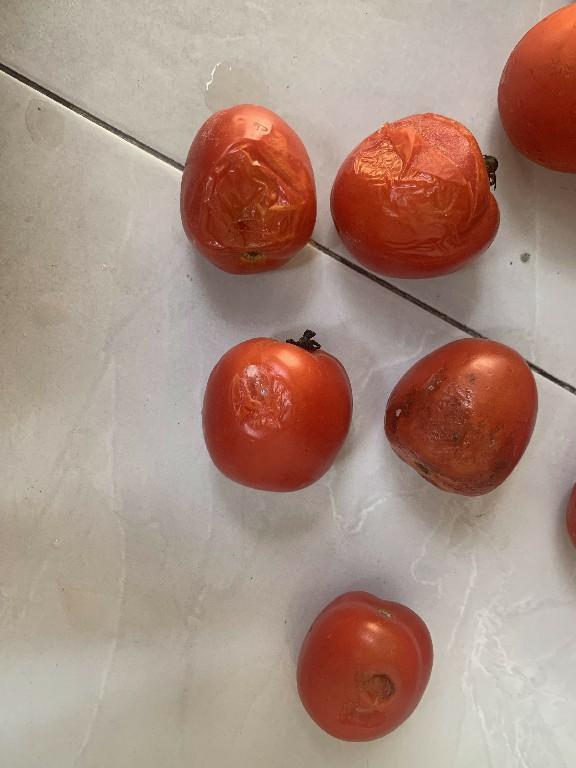NG: (377, 323, 548, 506), (328, 89, 496, 275), (195, 320, 364, 502), (172, 89, 326, 274), (291, 580, 453, 753)
